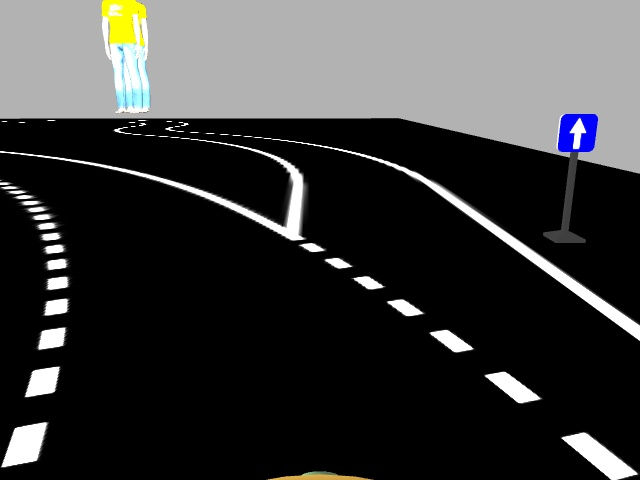OneWay: (559, 112, 595, 152)
